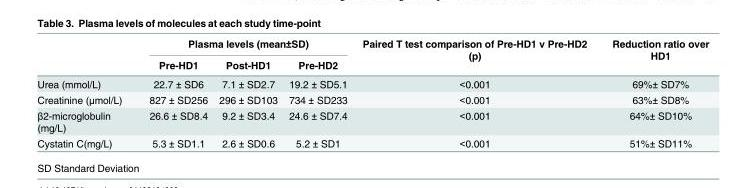table: (36, 36, 708, 148)
table column: (354, 36, 598, 148), (598, 36, 708, 148), (36, 36, 134, 148), (134, 36, 212, 148), (282, 36, 354, 148), (212, 36, 282, 148)
table column header: (36, 36, 708, 74)
table row: (36, 107, 708, 135), (36, 53, 708, 74), (36, 36, 708, 53), (36, 74, 708, 91), (36, 91, 708, 107), (36, 135, 708, 148)
table spanning cell: (354, 36, 598, 74), (598, 36, 708, 74), (134, 36, 354, 53)
